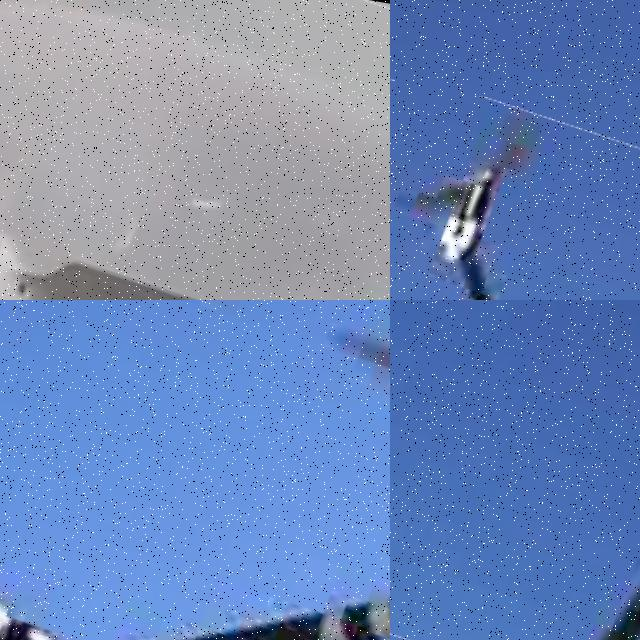0: (0, 300, 390, 640), (390, 300, 640, 640), (390, 47, 640, 300)
drone: (0, 0, 390, 300)
